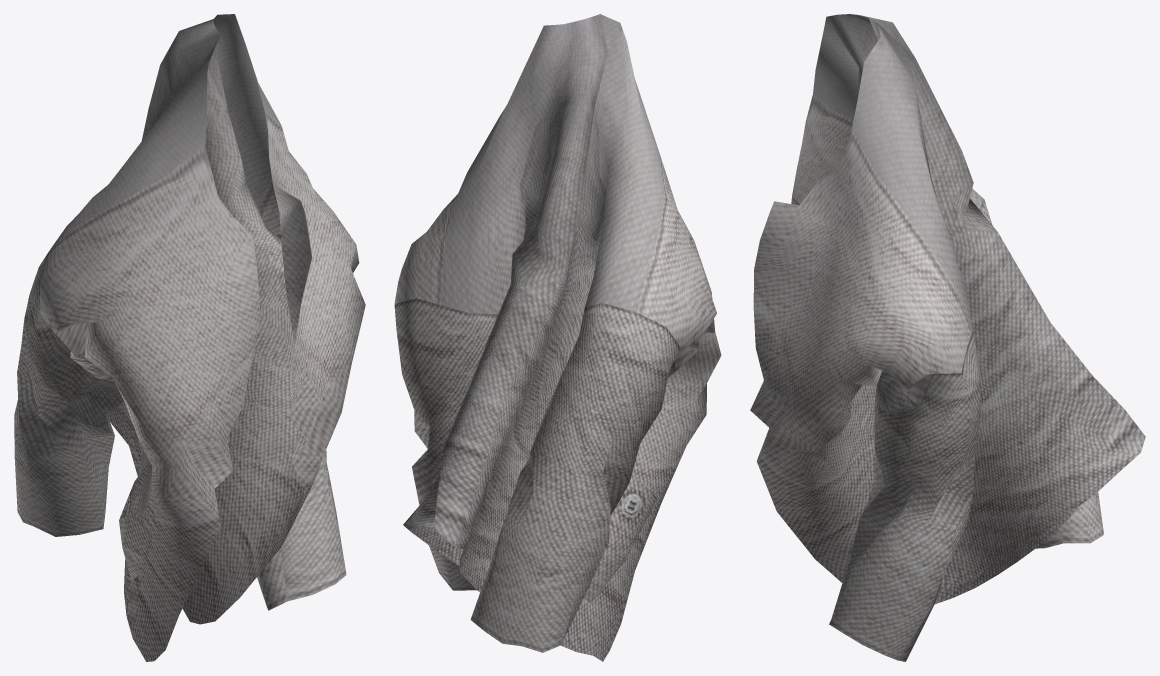
The model's file is Jacket1.fbx.
The picture shows the model from 3 angles, left to right: view 1: azimuth 30°, elevation 25°; view 2: azimuth 150°, elevation 25°; view 3: azimuth 270°, elevation 25°; orthographic projection. The views are drawn at different scales.
Visible parts, largest first — view 1: mannequin_m.001; view 2: mannequin_m.001; view 3: mannequin_m.001.
Boxes of the visible parts, bbox=[...] form: mannequin_m.001: bbox=[14, 14, 365, 661]; mannequin_m.001: bbox=[394, 14, 721, 661]; mannequin_m.001: bbox=[750, 14, 1145, 661].
Size of the model in its own units: 41.86 by 84.25 by 48.13.
